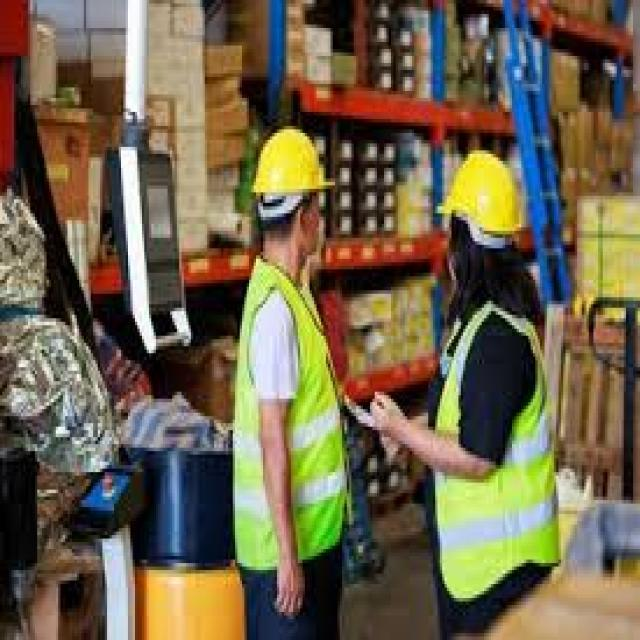reflective_jacket: (426, 290, 568, 605), (228, 265, 353, 577)
safety_helmet: (430, 139, 535, 255), (244, 115, 337, 220)
